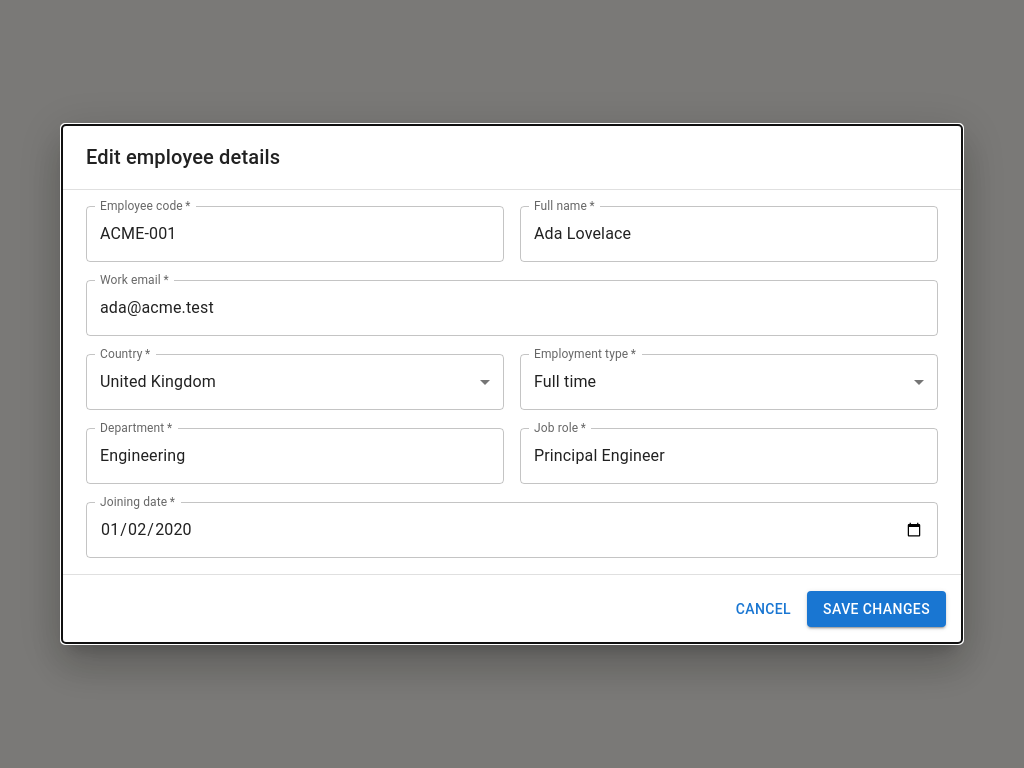
it: EmployeeFormDialog › keeps the dialog open and actions blocked while a conflict reload is pending
The image size is (1024, 768).
Replace the text in the field labelled "Full name *" with "Draft name" at (729, 234), box top-left (520, 206), bottom-right (938, 262)
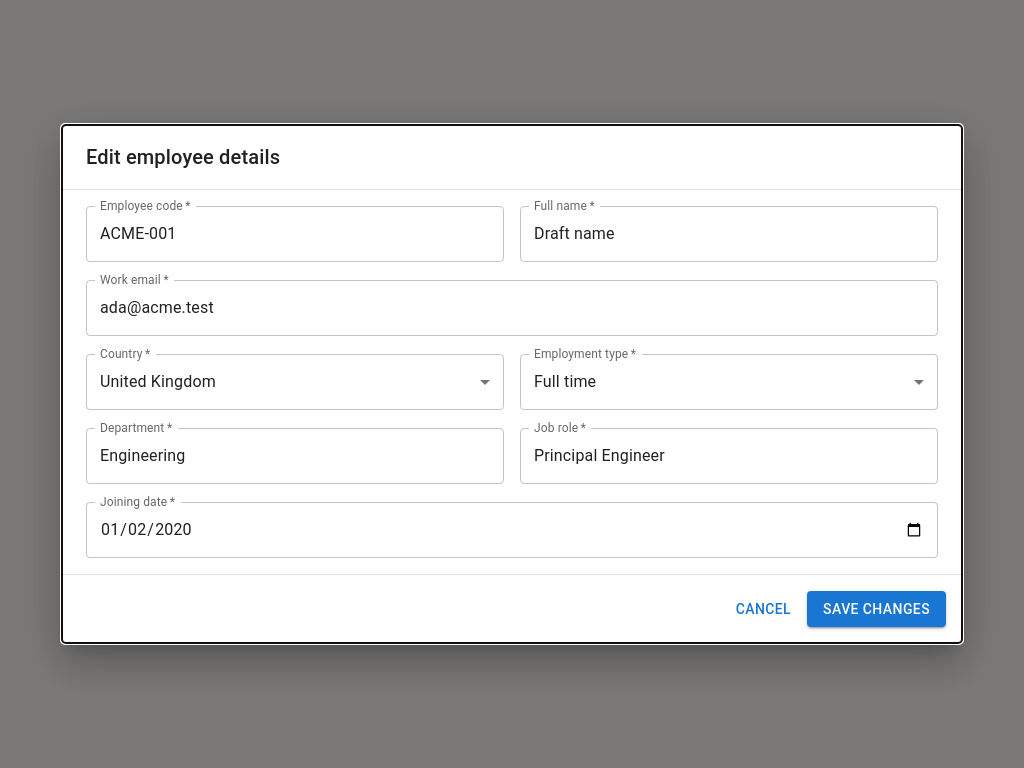
Click the button "Save changes" at (877, 609), box top-left (807, 591), bottom-right (946, 627)
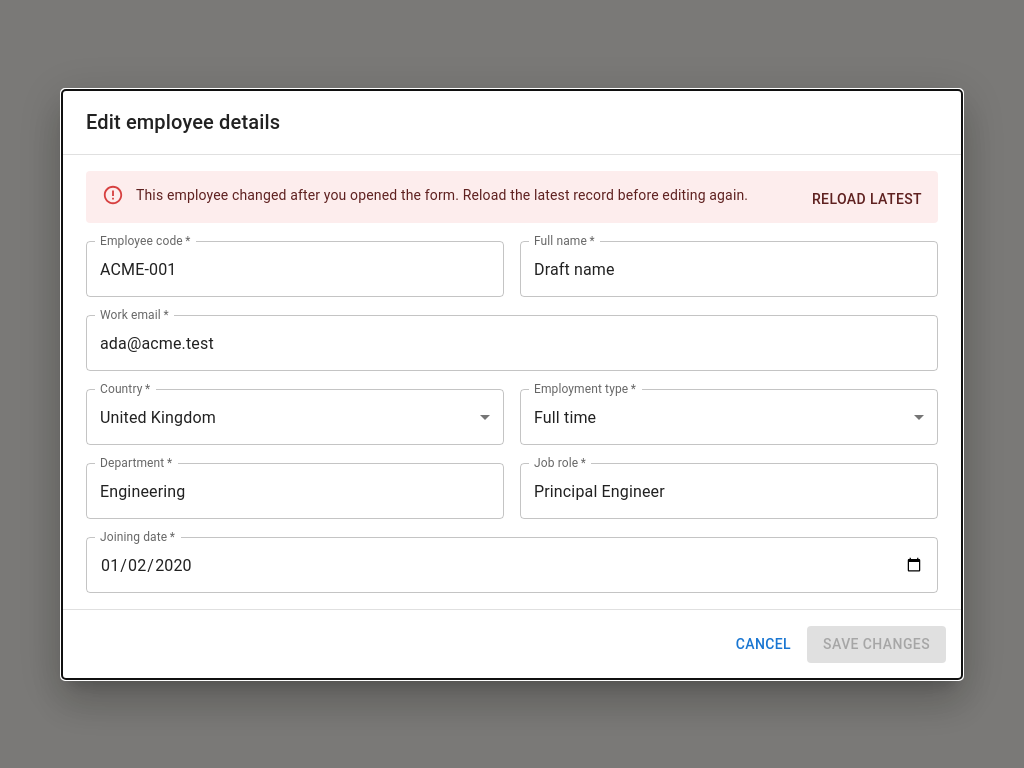
Click the button "Reload latest" at (867, 199), box top-left (804, 180), bottom-right (930, 217)
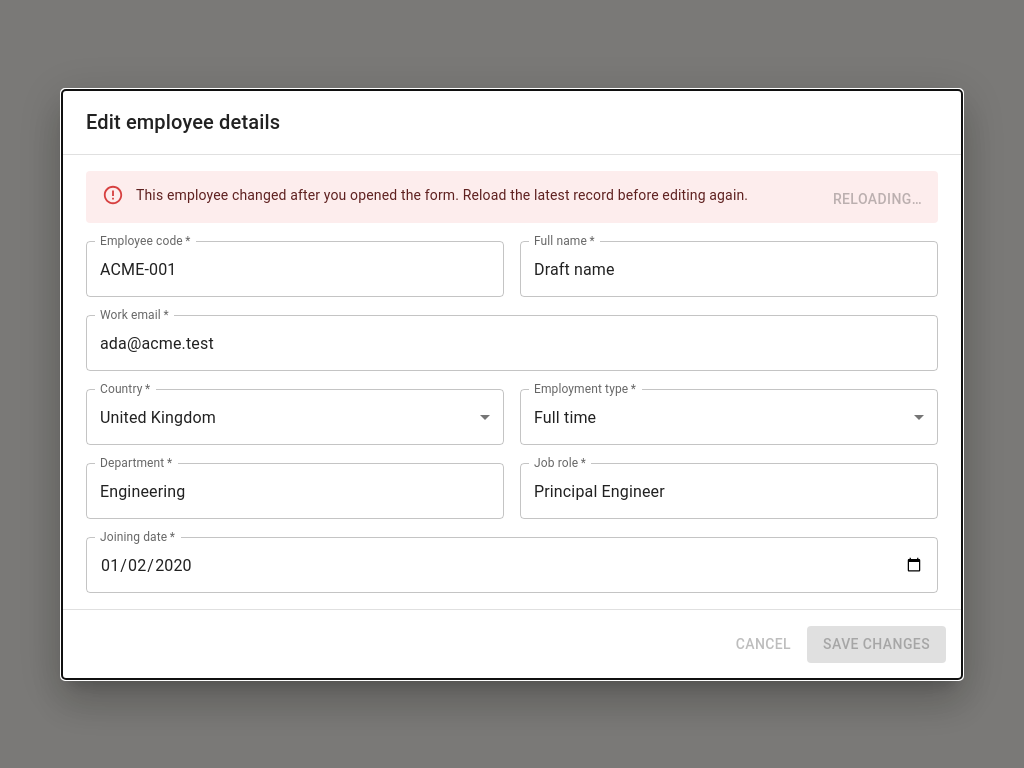
Result: the button "Save changes" is disabled at top-left (807, 626), bottom-right (946, 662)
Result: the button "Cancel" is disabled at top-left (728, 626), bottom-right (799, 662)
Press Escape in the dialog "Edit employee details"
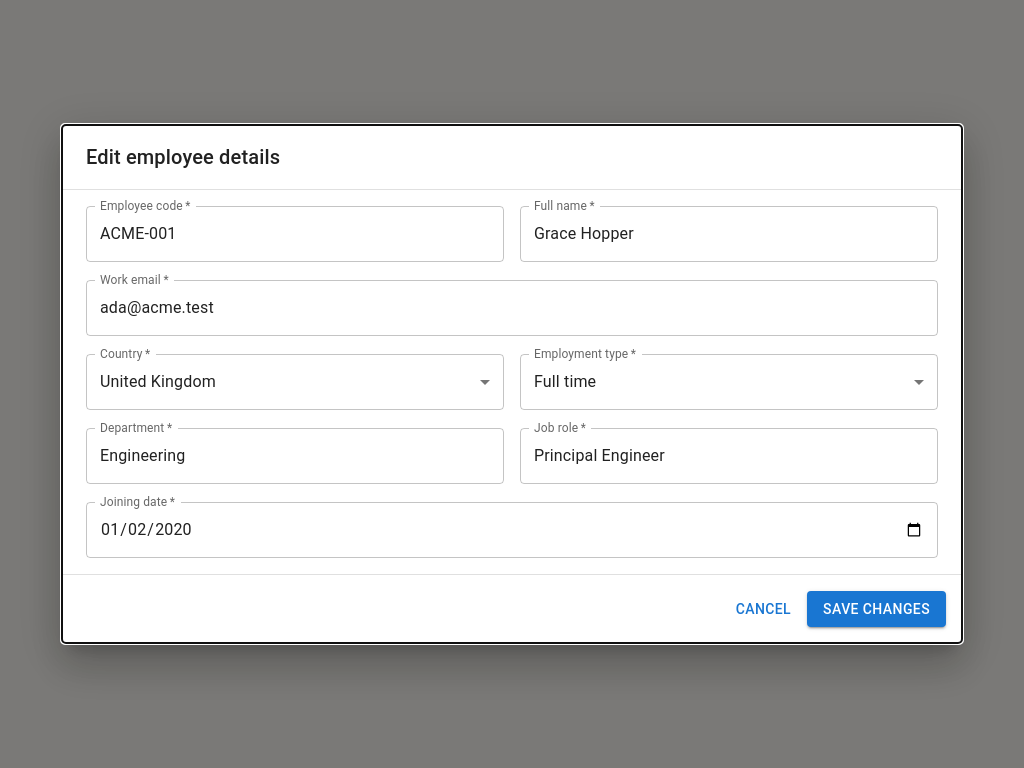
Result: the field showing "Grace Hopper" is shown at top-left (520, 206), bottom-right (938, 262)
